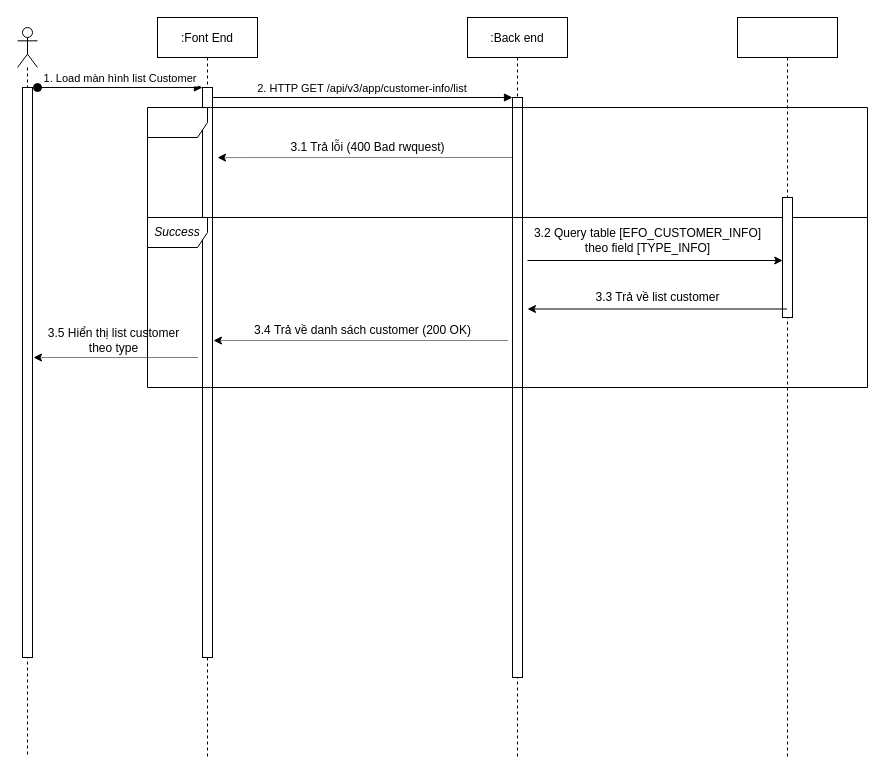
The diagram is 885 pixels wide and 775 high, and some of its shapes have lost their labels. The shapes that lost their labels are listed below. From the top down, each one's box as (x1, y1, x2, y2) in pixels, then its label:
(146, 106, 868, 218): Fail
(736, 16, 838, 758): :Database
